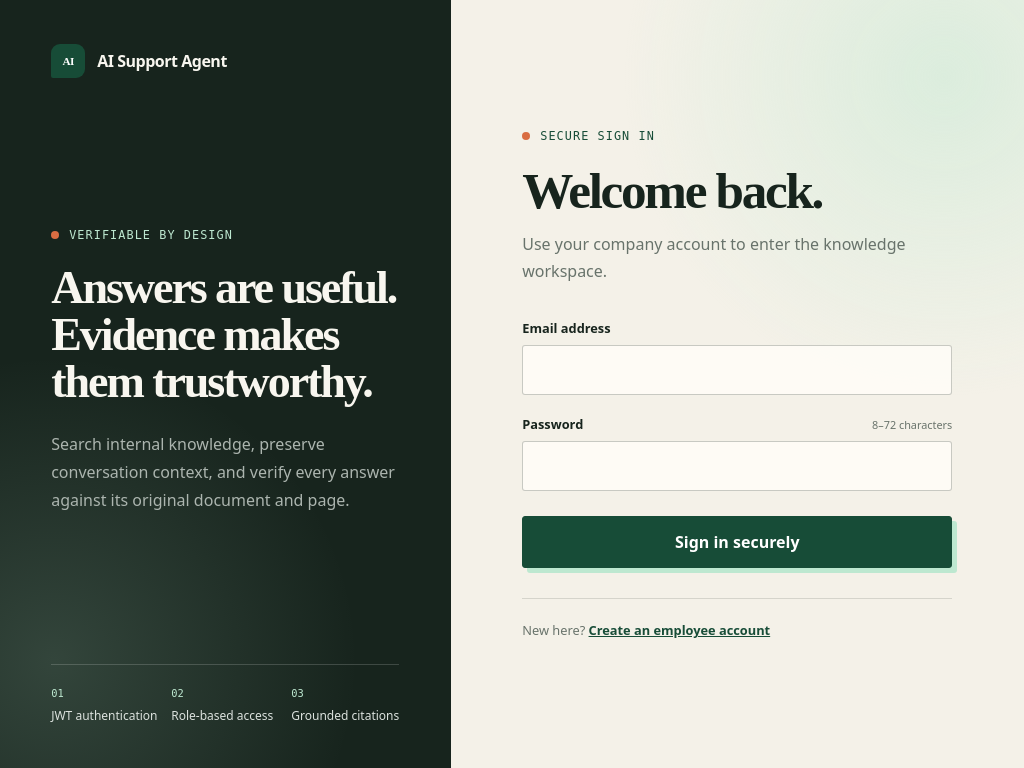
Test: authentication flow › logs in, loads the current user, and enters the protected workspace
This screenshot has width=1024, height=768.
Expected: the heading "Welcome back." is shown, [522, 162, 822, 219]
Type "brian@example.com" into the field labelled "Email address" at (737, 370), box [522, 345, 952, 395]
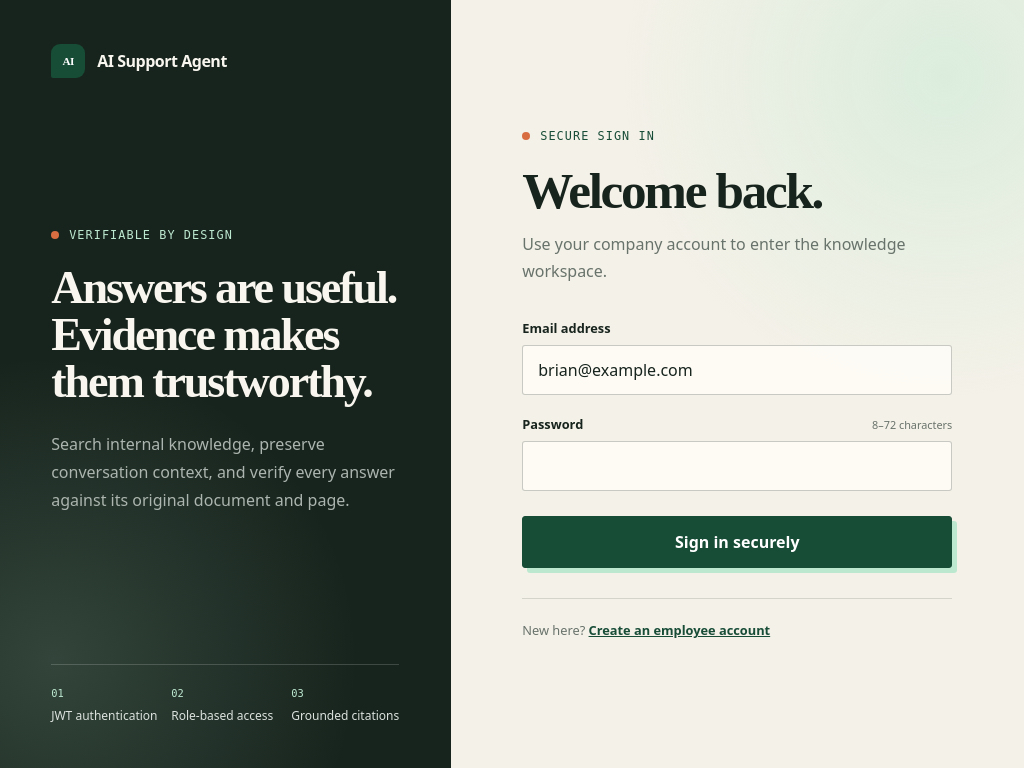
Type "correct-password" into the password field labelled "Password" at (737, 466), box [522, 441, 952, 491]
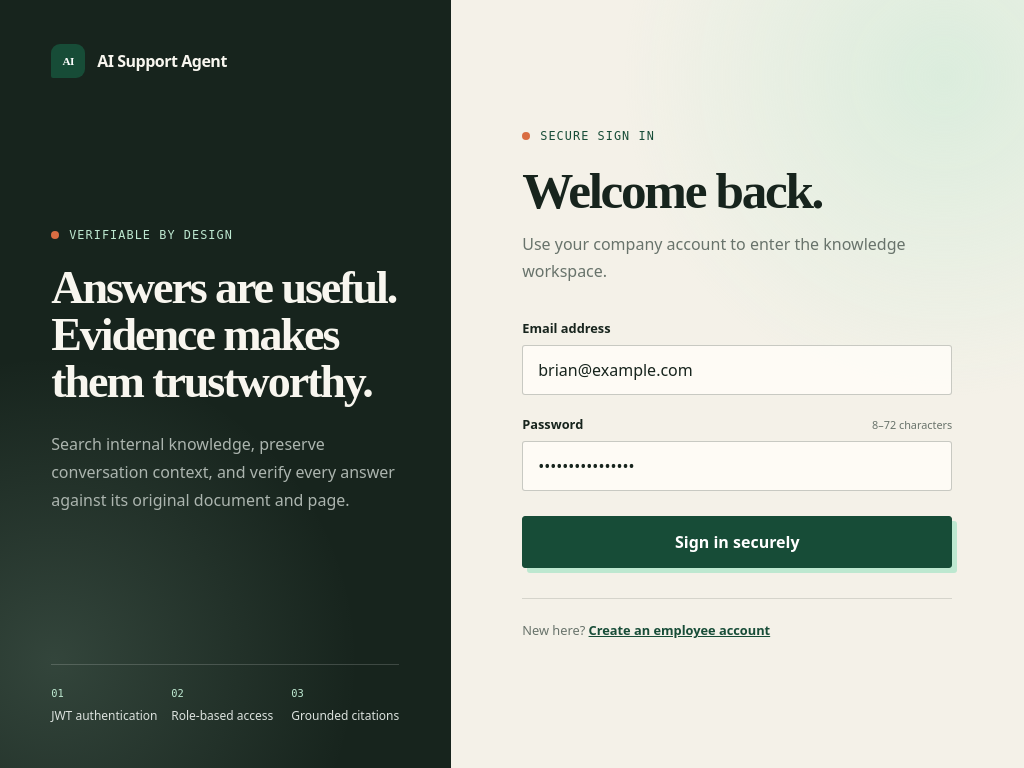
Click the button "Sign in securely" at (737, 542), box [522, 516, 952, 568]
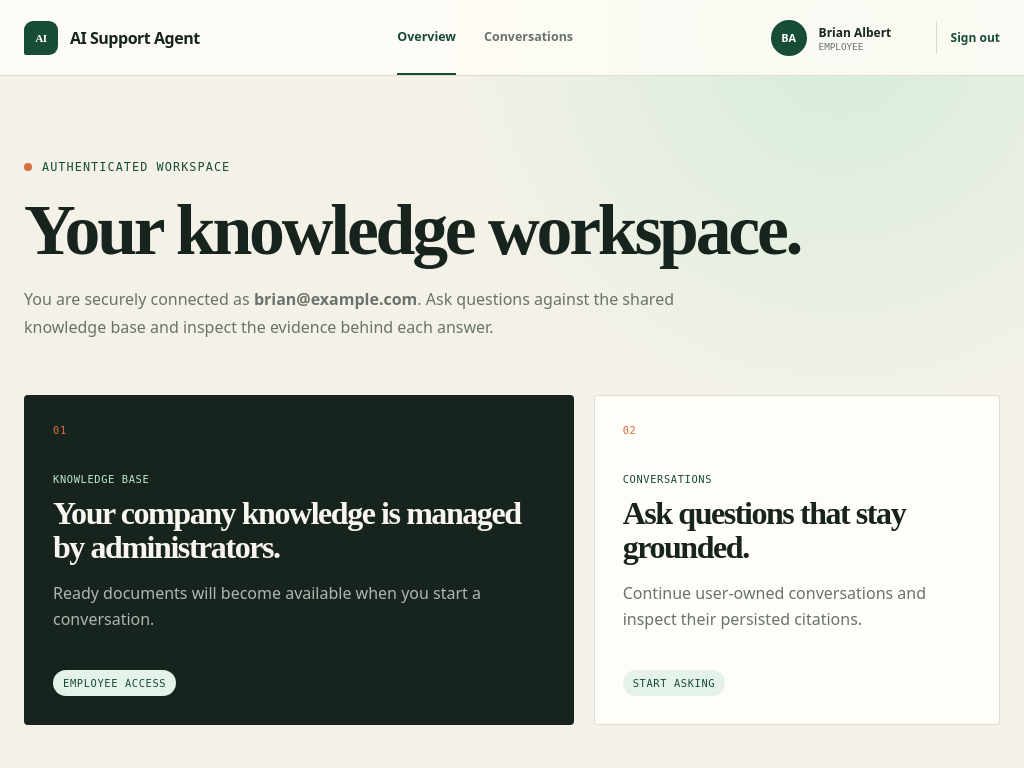
Expected: the heading "Your knowledge workspace." is shown, [24, 196, 814, 265]
Expected: the text "brian@example.com" is shown, [254, 288, 417, 310]
